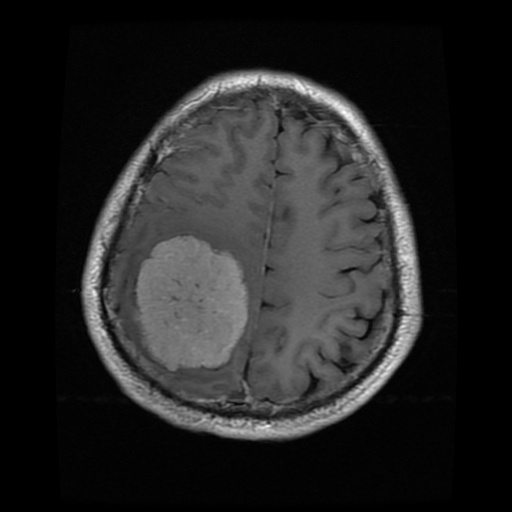meningioma: (138, 235, 248, 370)
